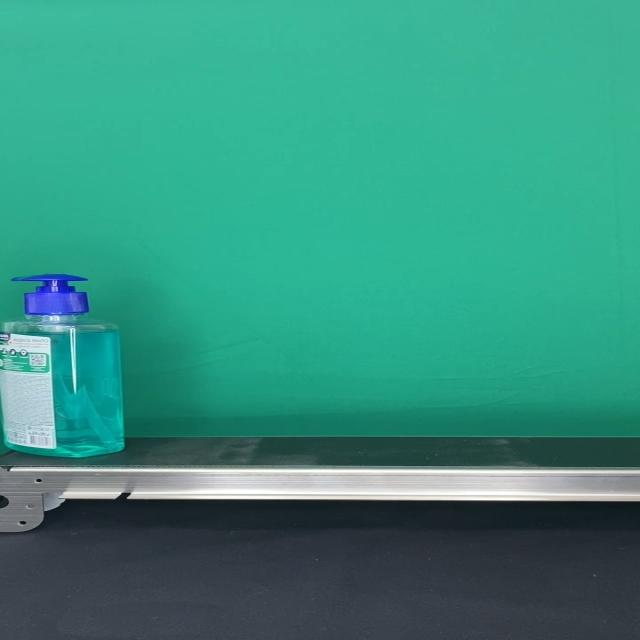Bottle: (0, 272, 126, 458)
Cap: (12, 273, 89, 315)
